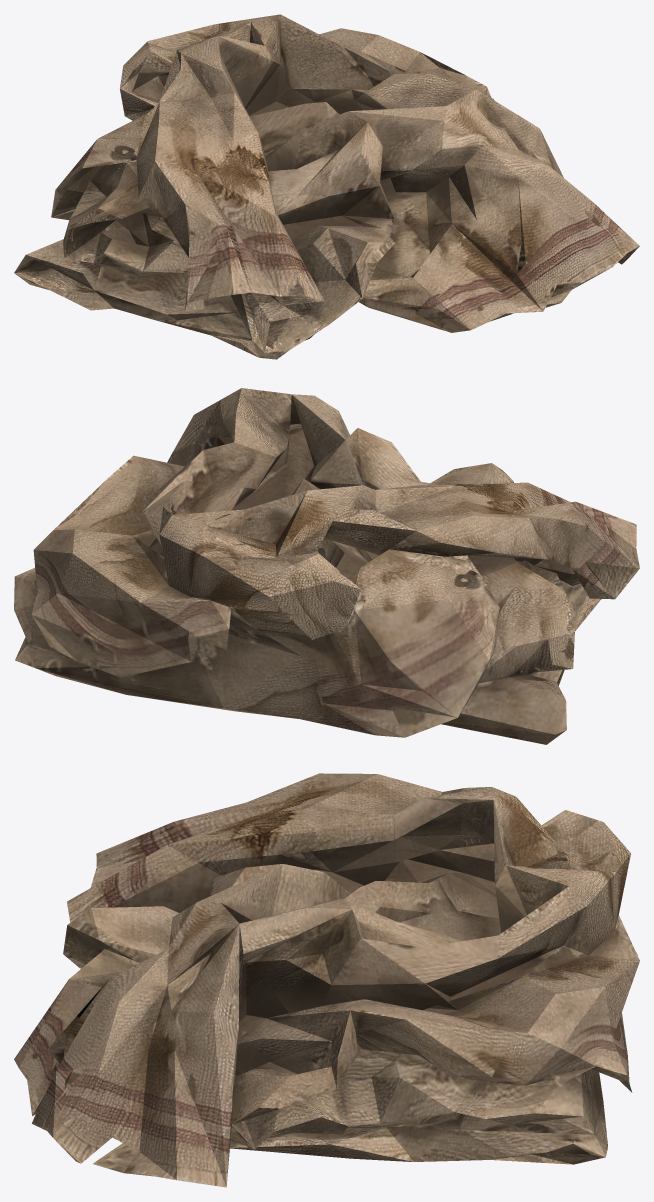
Rendered from dirty-towel.glb.
The picture shows the model from 3 angles, top to bottom: view 1: azimuth 30°, elevation 25°; view 2: azimuth 150°, elevation 25°; view 3: azimuth 270°, elevation 25°; orthographic projection. The views are drawn at different scales.
Visible parts, largest first — view 1: output_unwrapped; view 2: output_unwrapped; view 3: output_unwrapped.
Part boxes in pixels (box(x1,y1,x2,y2)): output_unwrapped: box(14, 14, 639, 359); output_unwrapped: box(14, 388, 639, 744); output_unwrapped: box(14, 773, 639, 1187).
Size of the model in its own units: 0.26 by 0.1 by 0.2297.
1 material, 1 textured.
